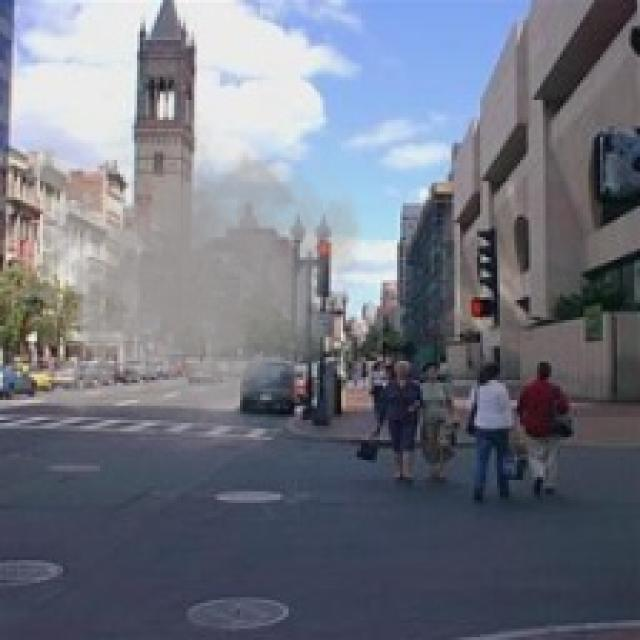Smoke: (14, 91, 369, 468)
